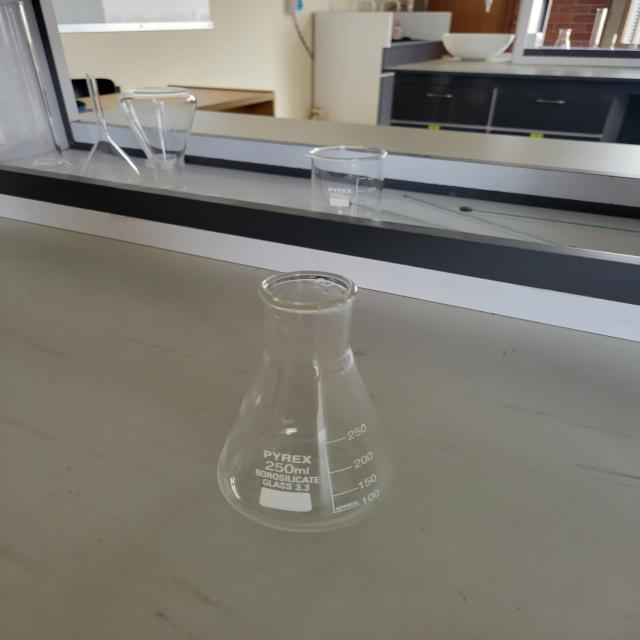Conical_Flask: (178, 238, 424, 554)
